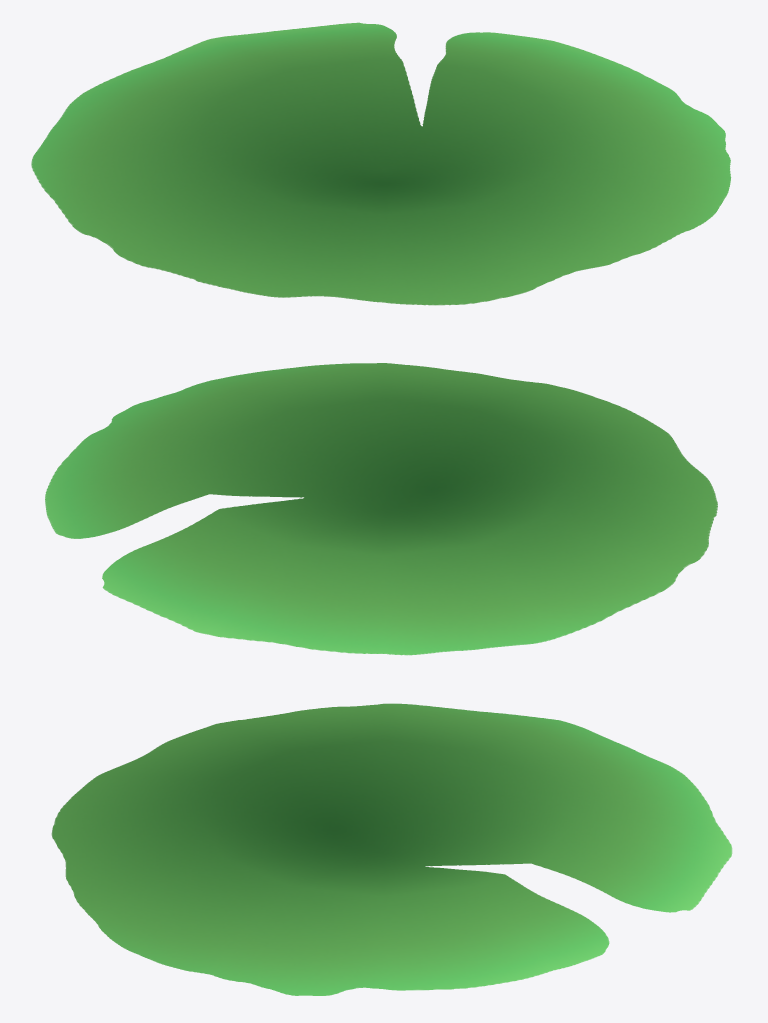
The model's file is SM_Sw_Nenuphar_06.fbx.
3 views of the same model, one above another, from view 1: azimuth 30°, elevation 25°; view 2: azimuth 150°, elevation 25°; view 3: azimuth 270°, elevation 25° (orthographic).
Parts seen in each view (by area): view 1: SM_Sw_Nenuphar_06; view 2: SM_Sw_Nenuphar_06; view 3: SM_Sw_Nenuphar_06.
Boxes of the visible parts, <box> form: SM_Sw_Nenuphar_06: <box>31,22,731,305</box>; SM_Sw_Nenuphar_06: <box>45,363,717,655</box>; SM_Sw_Nenuphar_06: <box>51,703,732,995</box>.
Size of the model in its own units: 21.6 by 1.09 by 21.6.
